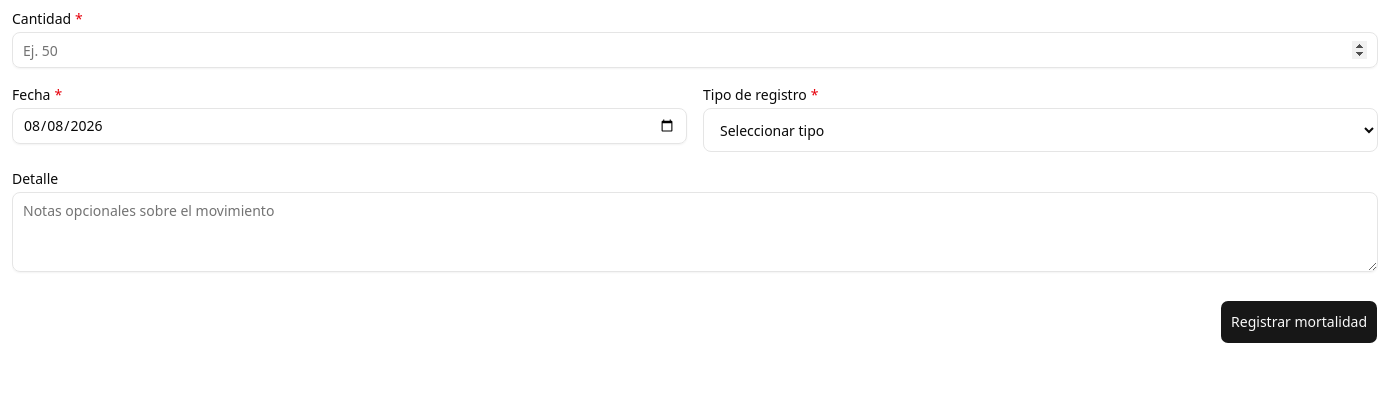
Test case: MovimientoCantidadForm › muestra error si cantidad está vacía al enviar
Click the button "Registrar mortalidad": (1299, 322) [1220,300,1378,344]
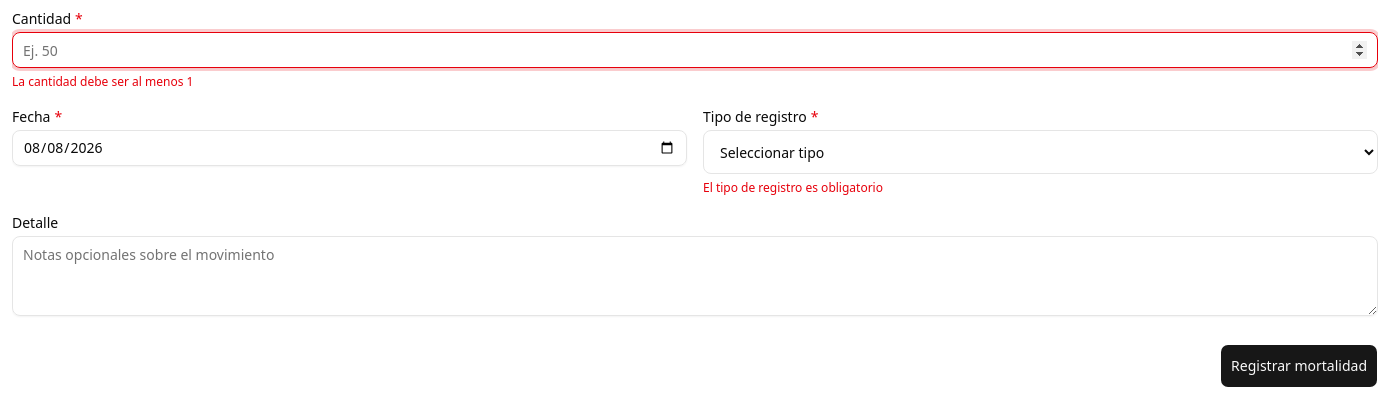
Check: the text "La cantidad debe ser al menos 1" is shown, box [12,73,194,90]
